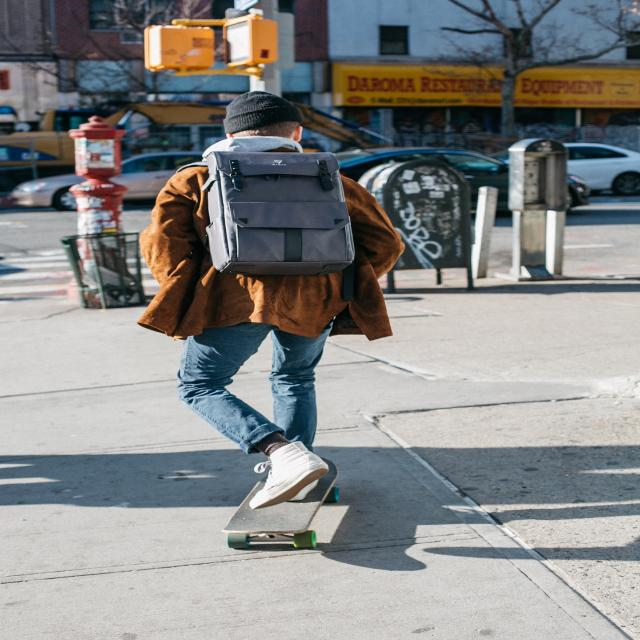backpack: (175, 150, 363, 269)
